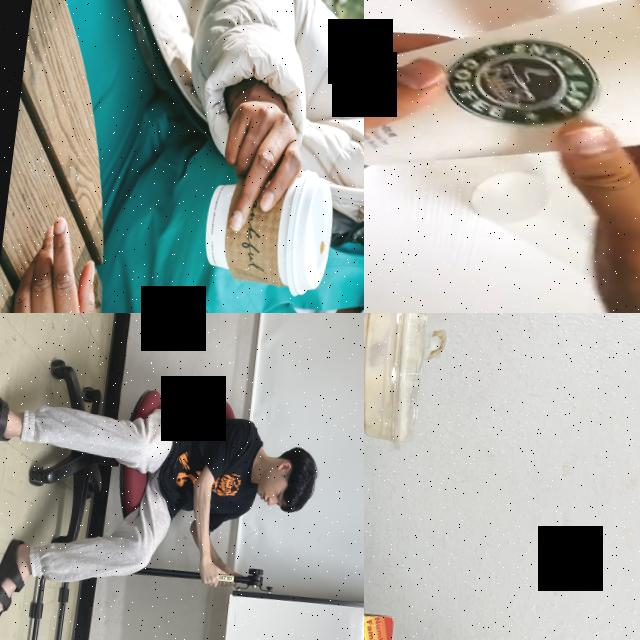cup: (364, 0, 640, 209), (194, 155, 338, 299), (364, 313, 434, 452)
